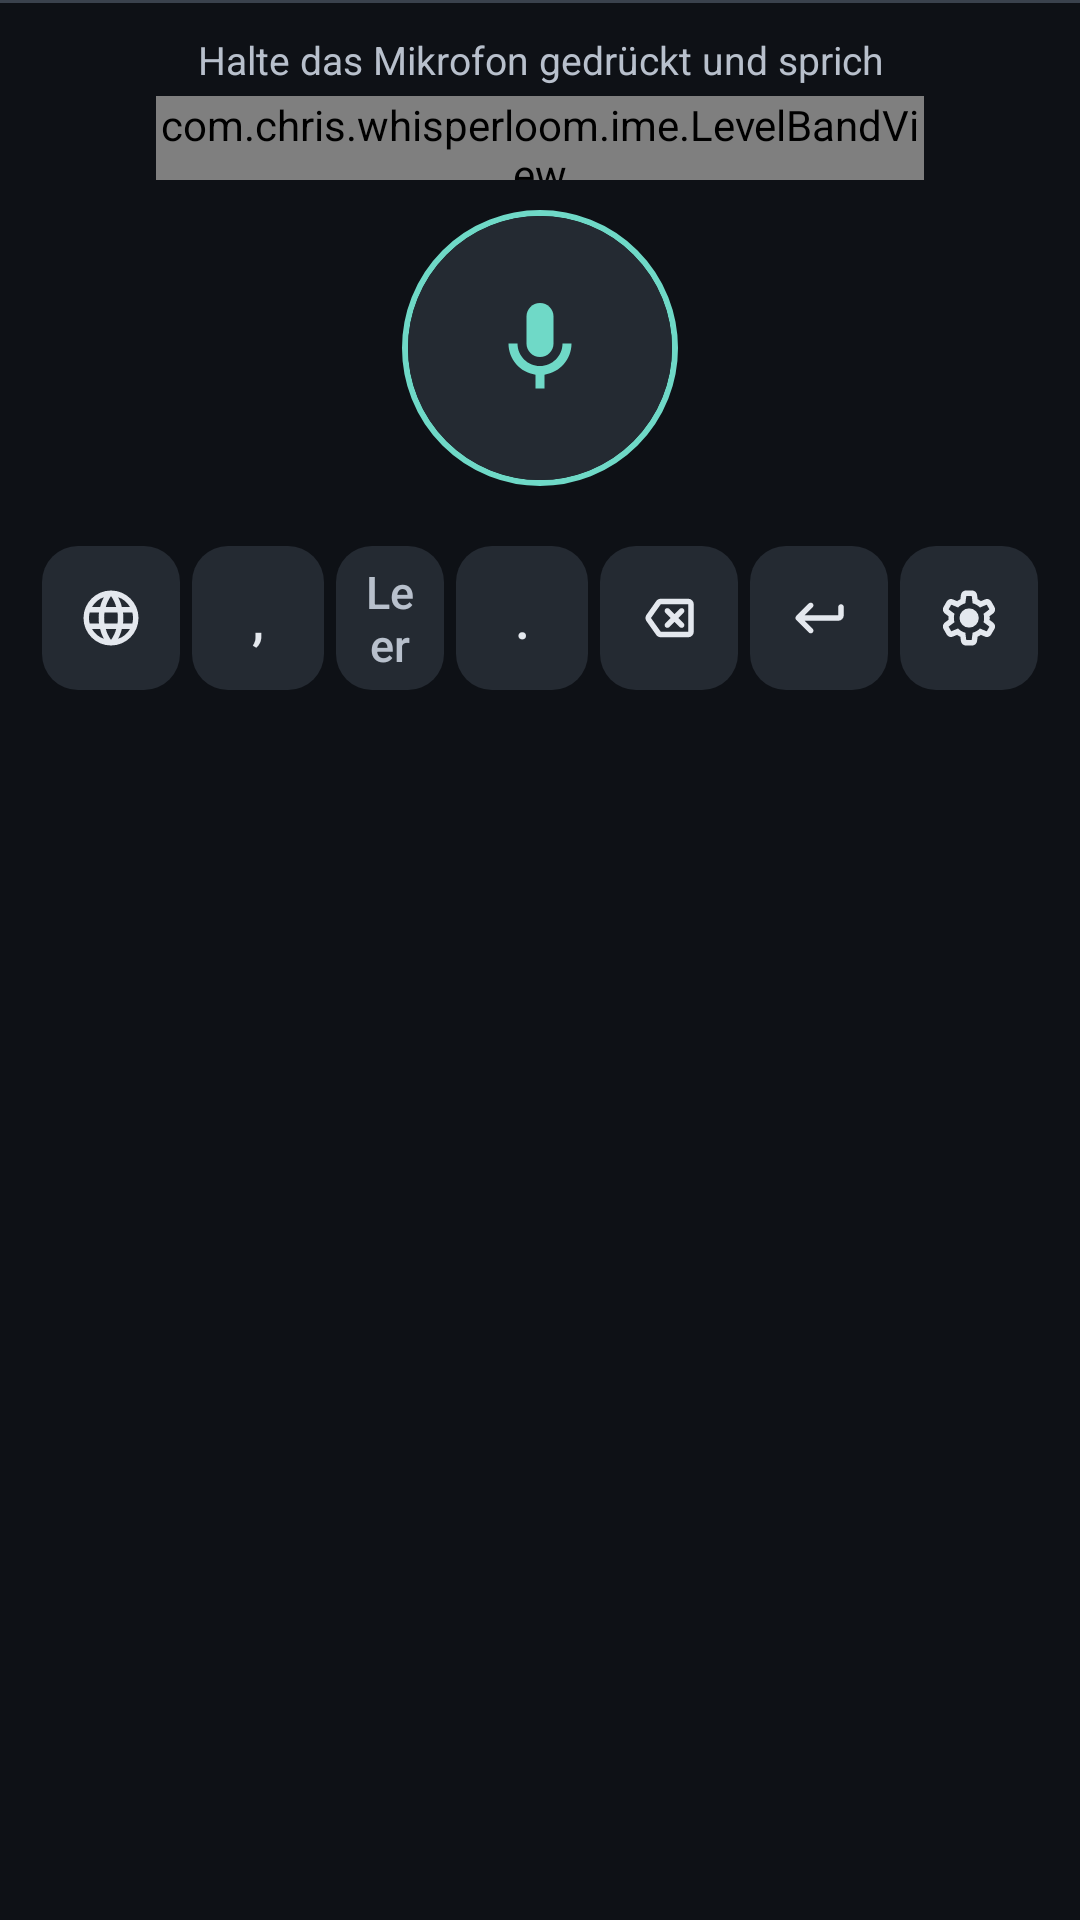

Icons on this 1080 × 1920 Android screen, each with the point to tap as point (x, y):
Eingabe: point (819, 618)
Eingabemethode wechseln: point (111, 618)
Löschen: point (669, 618)
settings: point (969, 618)
